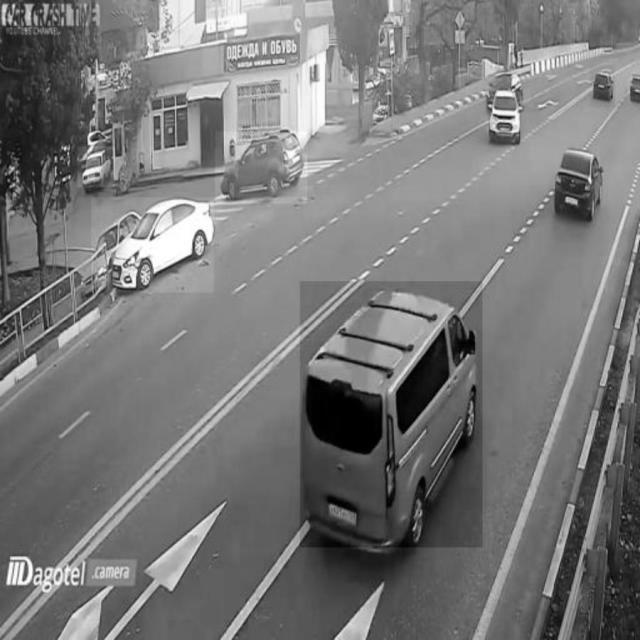accident: (91, 198, 213, 292)
vehicle: (299, 282, 483, 548), (215, 132, 307, 204), (554, 147, 600, 225), (489, 82, 524, 148), (78, 147, 115, 188), (590, 66, 615, 108), (628, 66, 640, 104)
